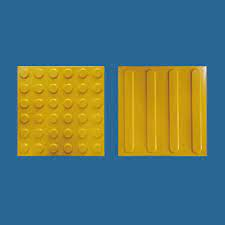guide_blocks: (119, 67, 204, 155), (17, 67, 102, 153)
